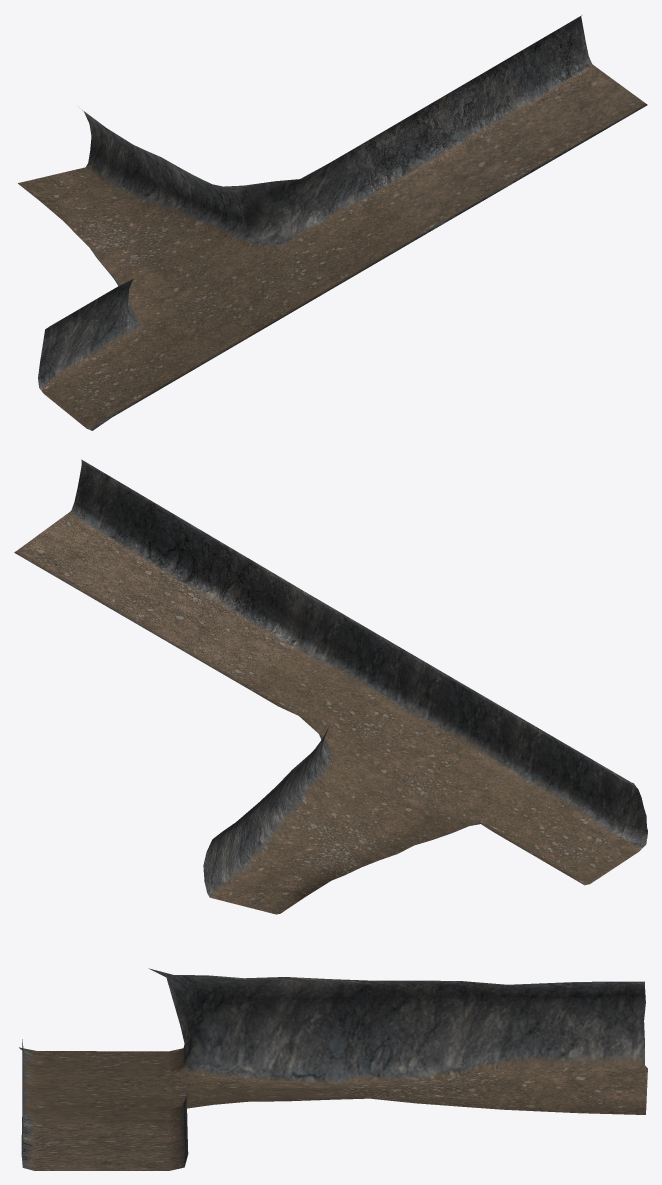
The model's file is piece.gltf.
3 views of the same model, one above another, from view 1: azimuth 30°, elevation 25°; view 2: azimuth 150°, elevation 25°; view 3: azimuth 270°, elevation 25° (orthographic). The views are drawn at different scales.
Visible parts, largest first — view 1: SlopeB; view 2: SlopeB; view 3: SlopeB.
Boxes of the visible parts, x1,y1,x2,y2 form: SlopeB: [18, 15, 647, 430]; SlopeB: [14, 459, 647, 914]; SlopeB: [19, 968, 647, 1170].
Size of the model in its own units: 17.14 by 7.53 by 11.57.
3 materials, 3 textured.
